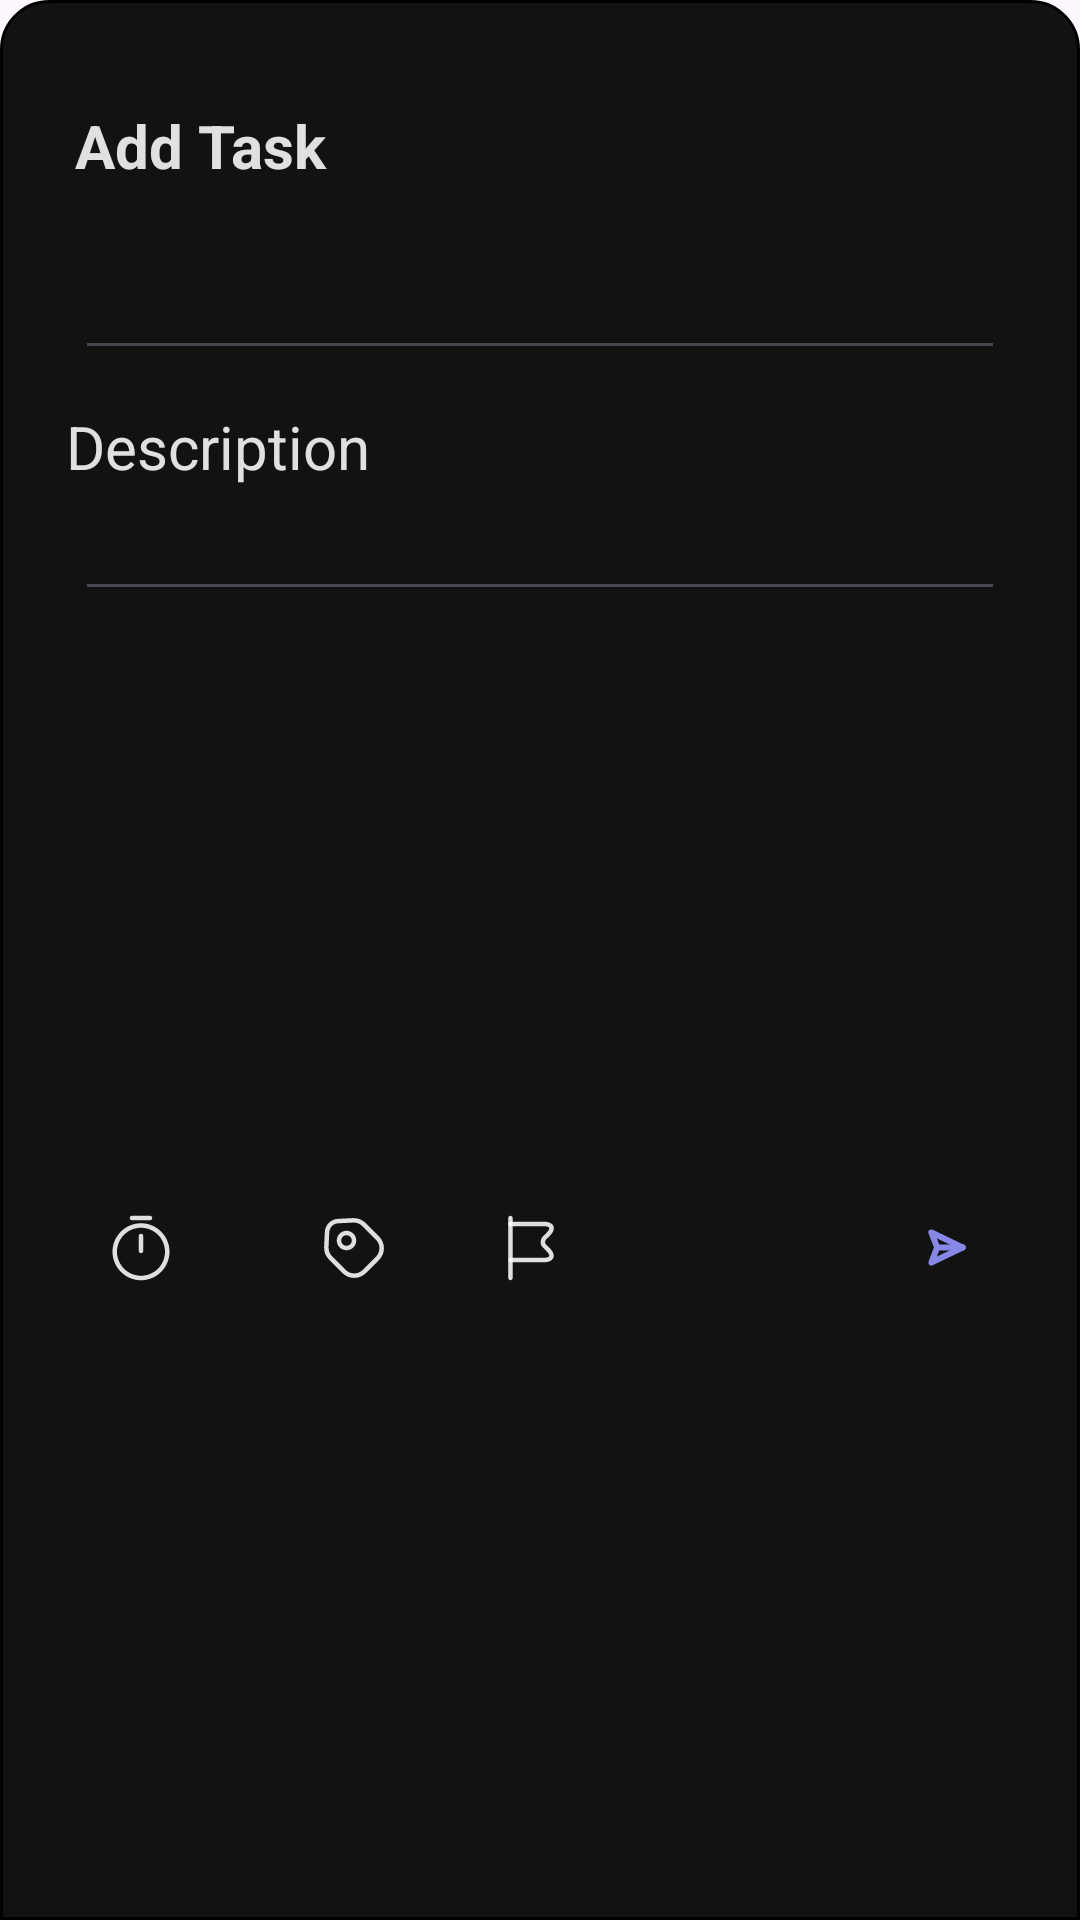

Screen size 1080x1920. Icon name, then its center in pixels as (x=x, y=y):
category: (x=354, y=1248)
flag: (x=531, y=1248)
send: (x=947, y=1247)
timer: (x=141, y=1248)
